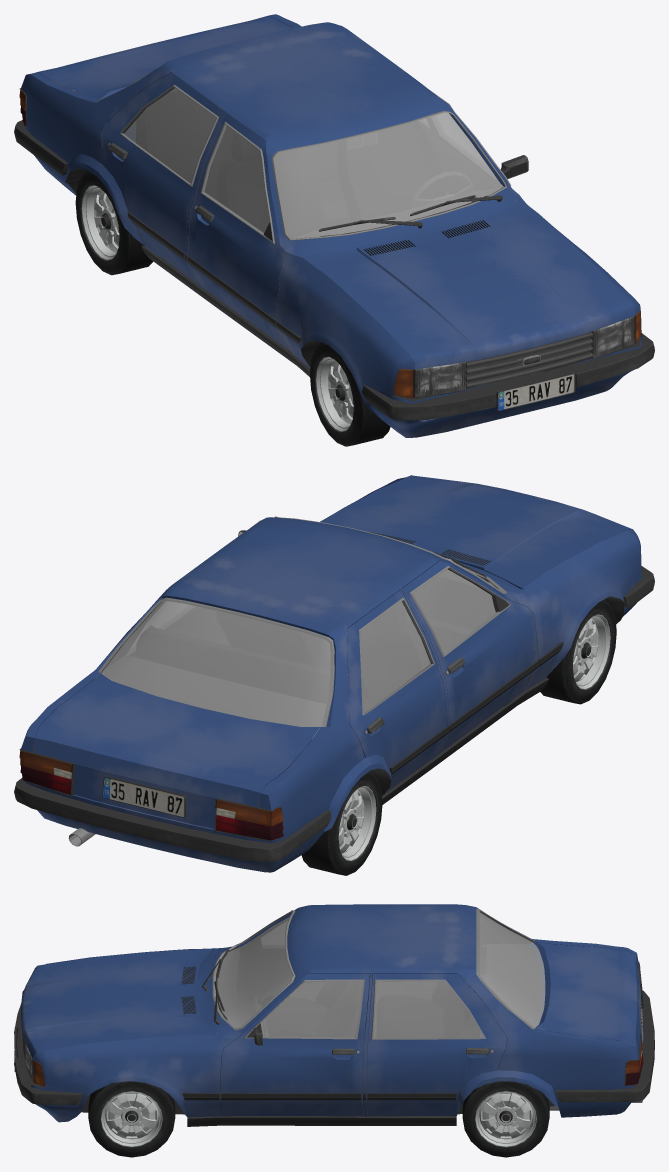
The picture shows the model from 3 angles, top to bottom: view 1: azimuth 30°, elevation 25°; view 2: azimuth 150°, elevation 25°; view 3: azimuth 270°, elevation 25°; orthographic projection. The views are drawn at different scales.
Parts seen in each view (by area): view 1: ford taunus.001, Cylinder.002, Cylinder.003; view 2: ford taunus.001, Cylinder.003, Cylinder.002; view 3: ford taunus.001, Cylinder, Cylinder.001.
Part boxes in pixels (x1,y1,x2,y2): ford taunus.001: [14, 14, 654, 437]; Cylinder.002: [310, 342, 390, 446]; Cylinder.003: [75, 170, 153, 275]; ford taunus.001: [14, 475, 654, 872]; Cylinder.003: [301, 771, 382, 875]; Cylinder.002: [540, 599, 616, 704]; ford taunus.001: [14, 904, 654, 1126]; Cylinder: [88, 1081, 175, 1157]; Cylinder.001: [462, 1081, 549, 1157].
Bounding box in the file's own units: 3.21 × 2.38 × 7.94.
11 materials, 10 textured.
